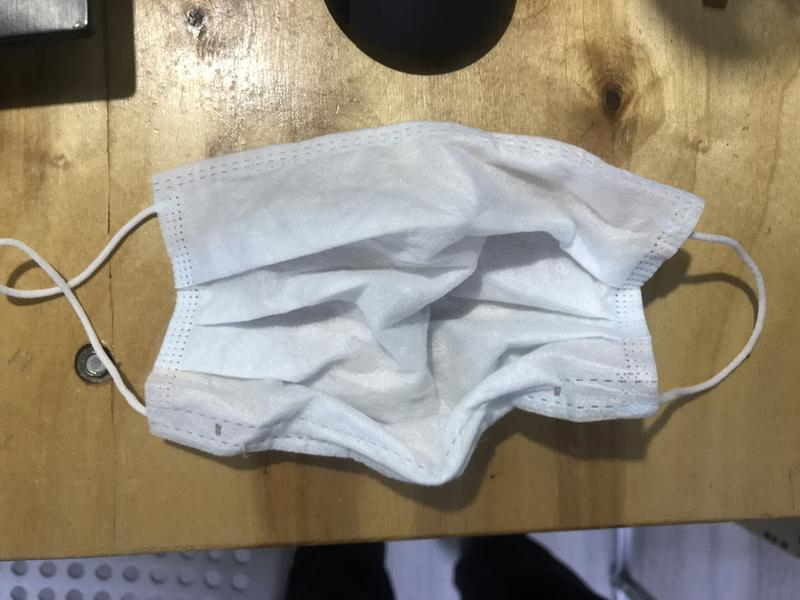medical_mask: (6, 121, 766, 488)
